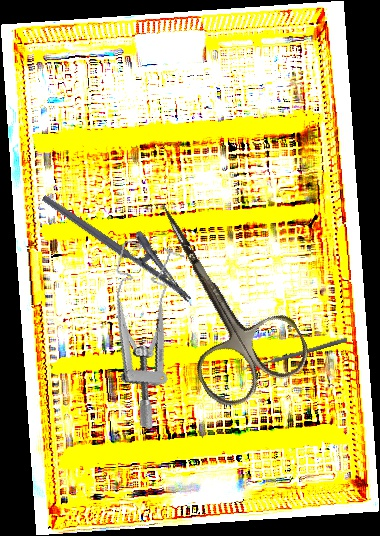Iris Scissors: (116, 176, 317, 416)
Needle Holder: (41, 174, 206, 304)
Speculum: (77, 237, 201, 430)
Surgical Spoon: (240, 336, 348, 373)
